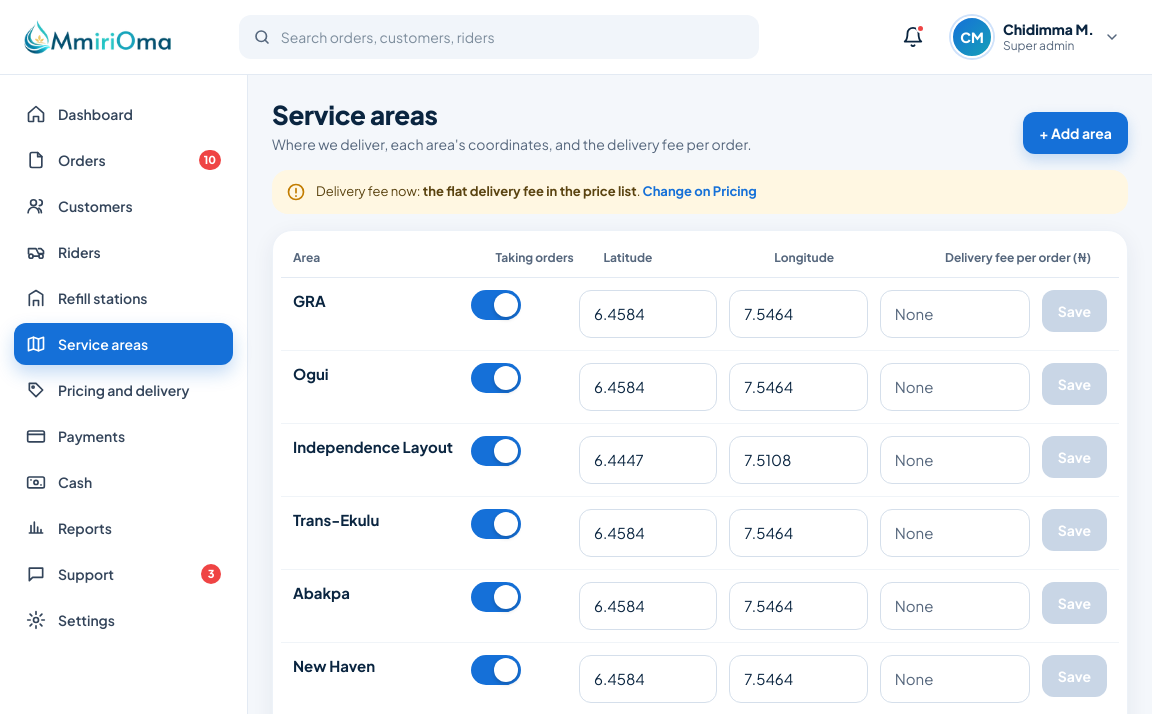
Test: Service areas screen (Z4, #111) › refuses a coordinate that is not plain decimal degrees, and marks the field
Check: the text "GRA" is shown, box [293, 291, 326, 310]
Click the button "+ Add area".
click(1076, 134)  # box [1023, 112, 1128, 154]
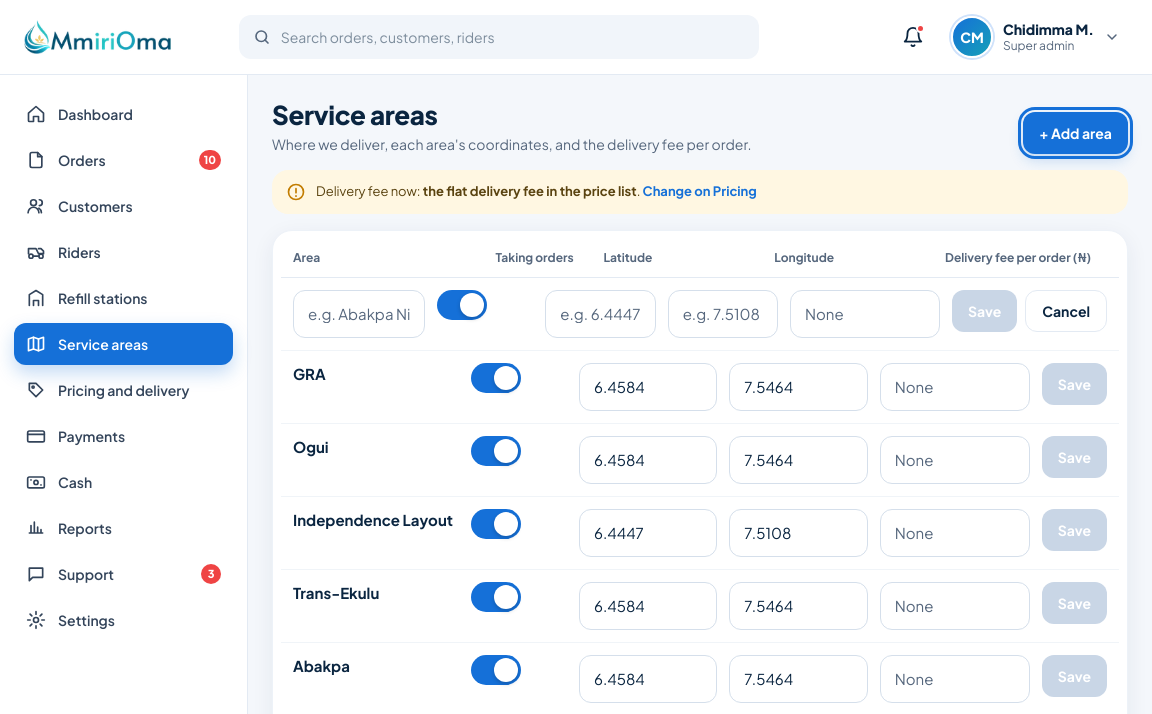
Type "Abakpa Nike" into the field with placeholder "e.g. Abakpa Nike".
click(359, 314); type("Abakpa Nike")  # box [293, 290, 425, 338]
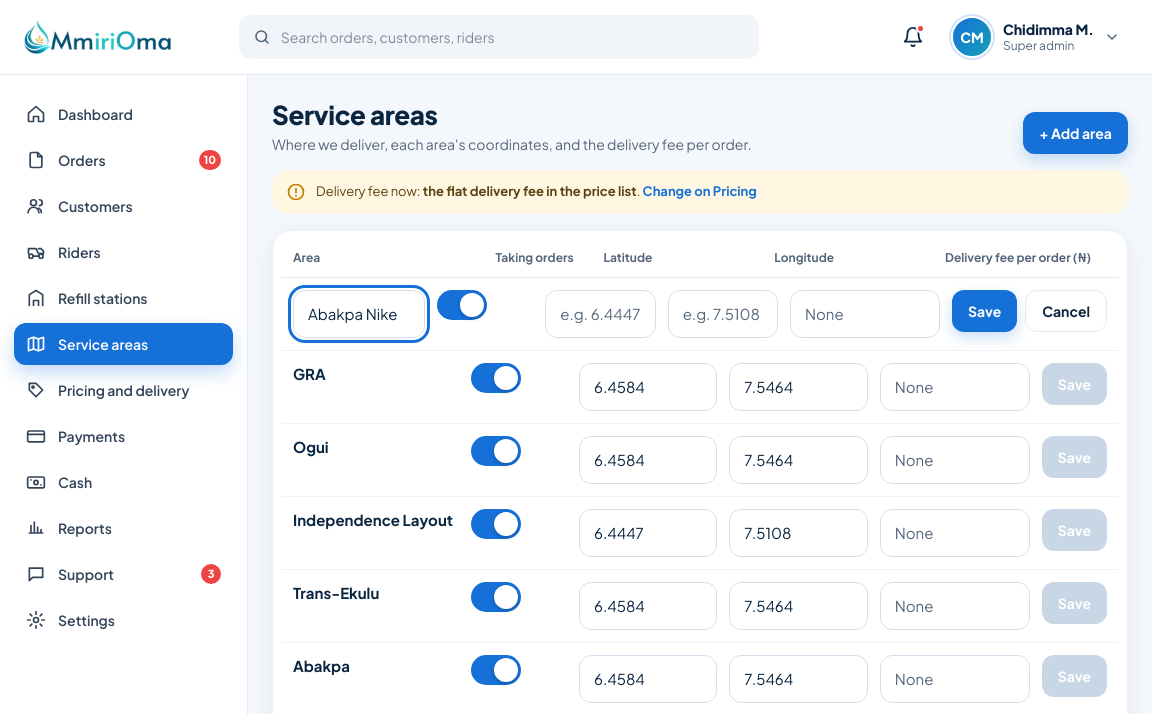
Type "6.4.4" into the field with placeholder "e.g. 6.4447".
click(600, 314); type("6.4.4")  # box [545, 290, 656, 338]
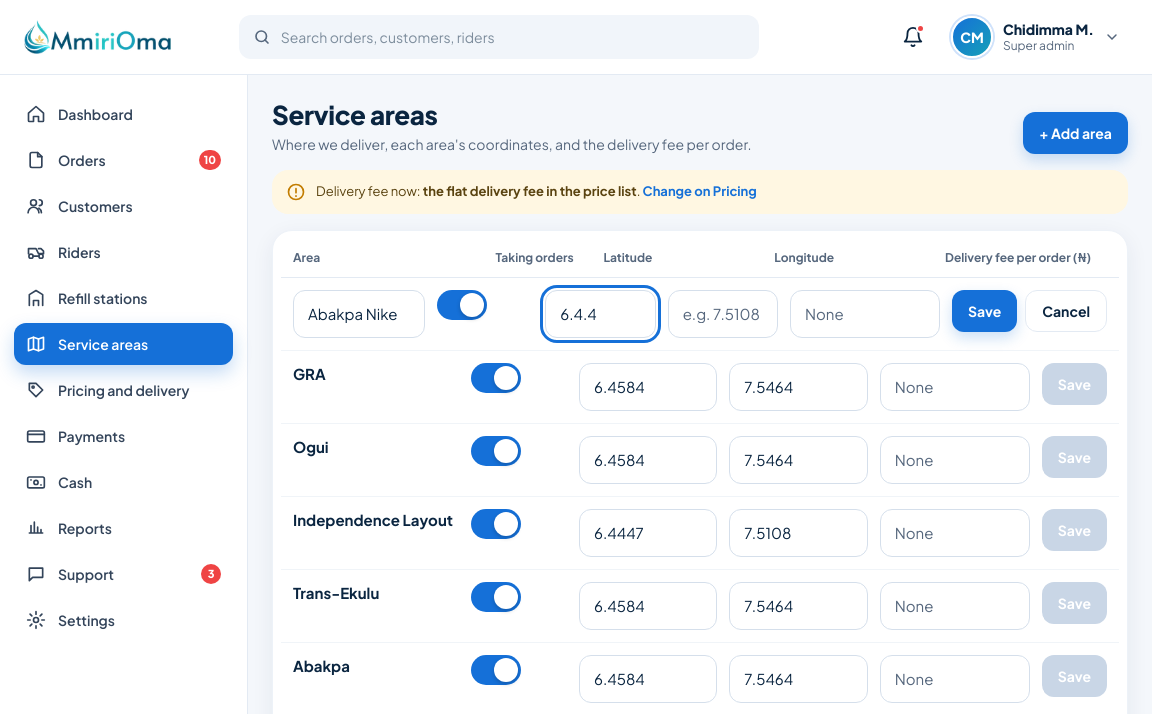
Type "7.5108" into the field with placeholder "e.g. 7.5108".
click(723, 314); type("7.5108")  # box [668, 290, 778, 338]
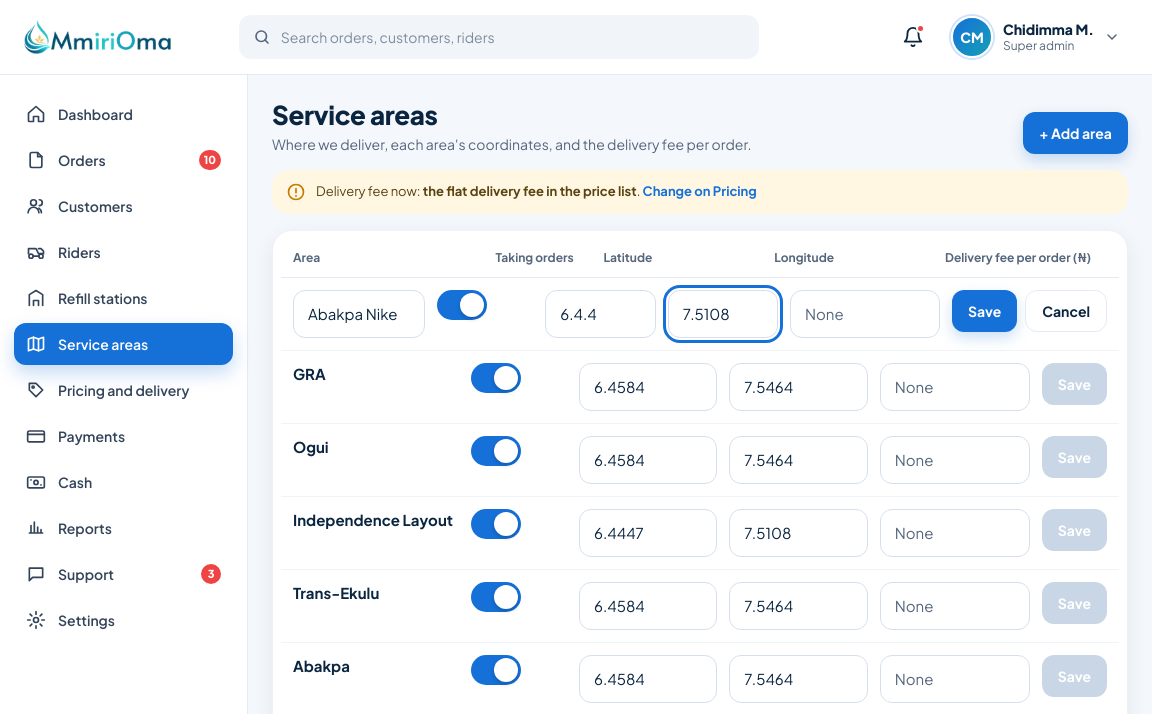
Click the 1st button "Save".
click(985, 311)  # box [952, 290, 1017, 332]
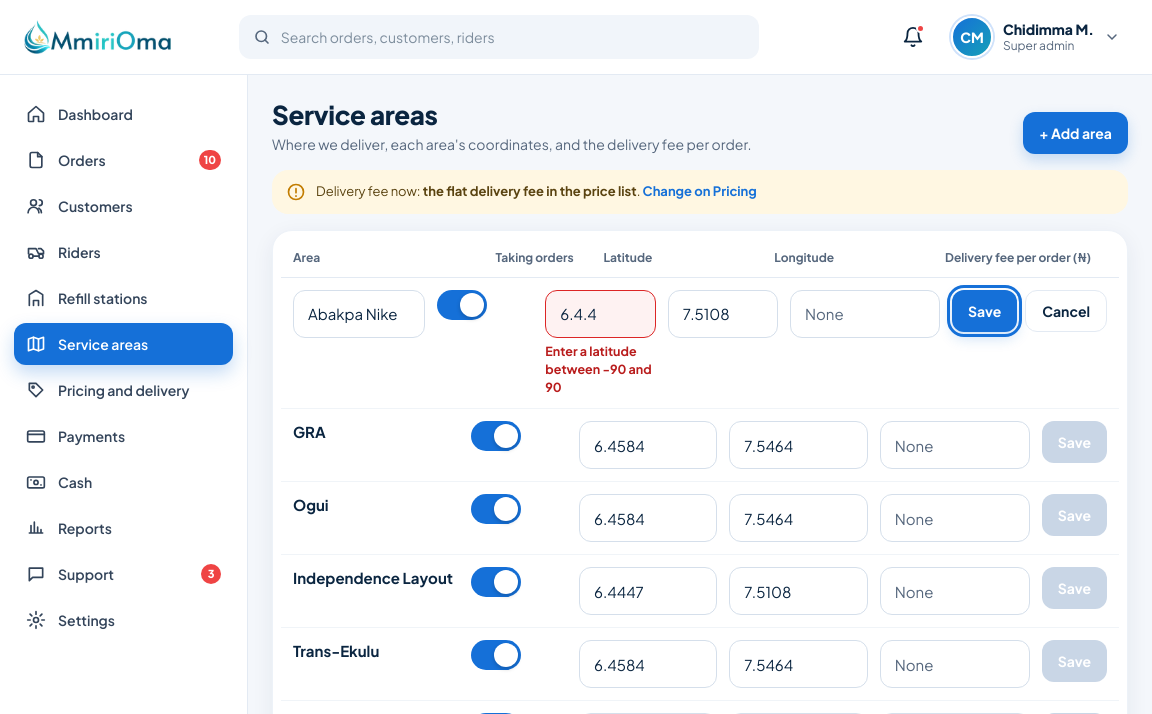
Check: the text "Enter a latitude between -90 and 90" is shown, box [545, 342, 656, 396]
